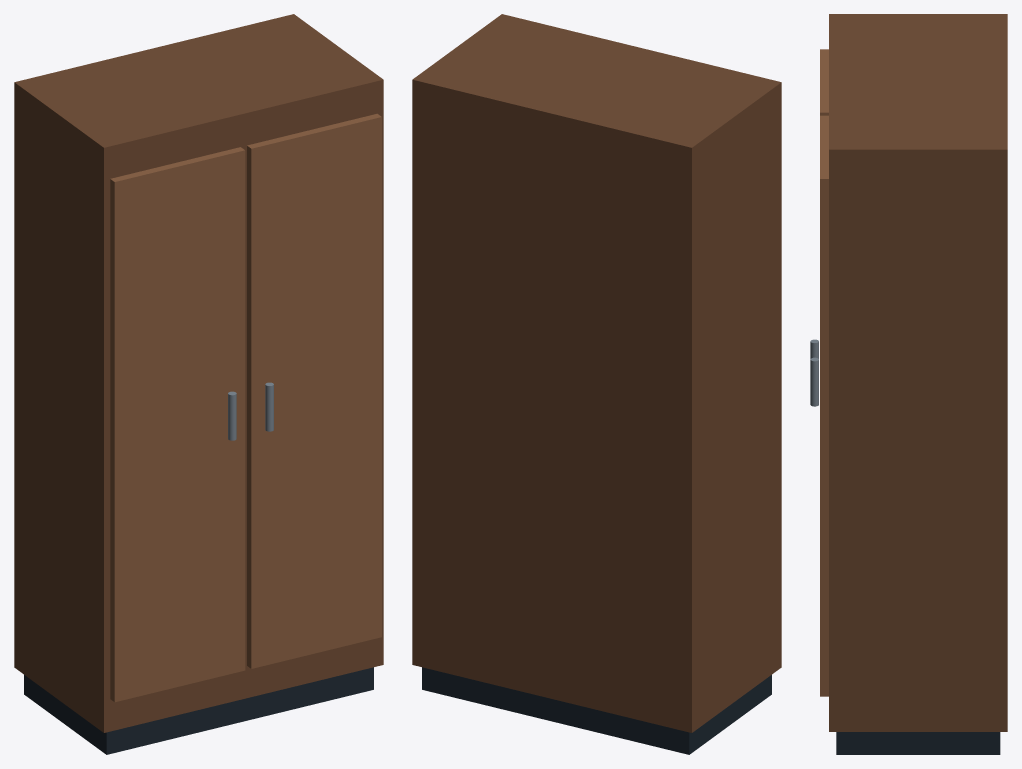
Rendered from storage-cabinet-lod0.glb.
3 views of the same model, side by side, from view 1: azimuth 30°, elevation 25°; view 2: azimuth 150°, elevation 25°; view 3: azimuth 270°, elevation 25° (orthographic).
Visible parts, largest first — view 1: carcass, door-slab, fixed-door, plinth; view 2: carcass, plinth; view 3: carcass, fixed-door, plinth, door-slab, fixed-handle.
Part boxes in pixels (box(x1,y1,x2,y2)): carcass: box(14, 14, 383, 732); door-slab: box(110, 147, 245, 702); fixed-door: box(247, 113, 381, 668); plinth: box(24, 667, 373, 754); carcass: box(412, 14, 781, 732); plinth: box(422, 667, 771, 754); carcass: box(829, 14, 1007, 731); fixed-door: box(820, 115, 828, 696); plinth: box(836, 732, 1000, 754); door-slab: box(820, 49, 828, 115); fixed-handle: box(810, 357, 818, 406).
Bounding box in the file's own units: 0.9 × 1.88 × 0.552.
